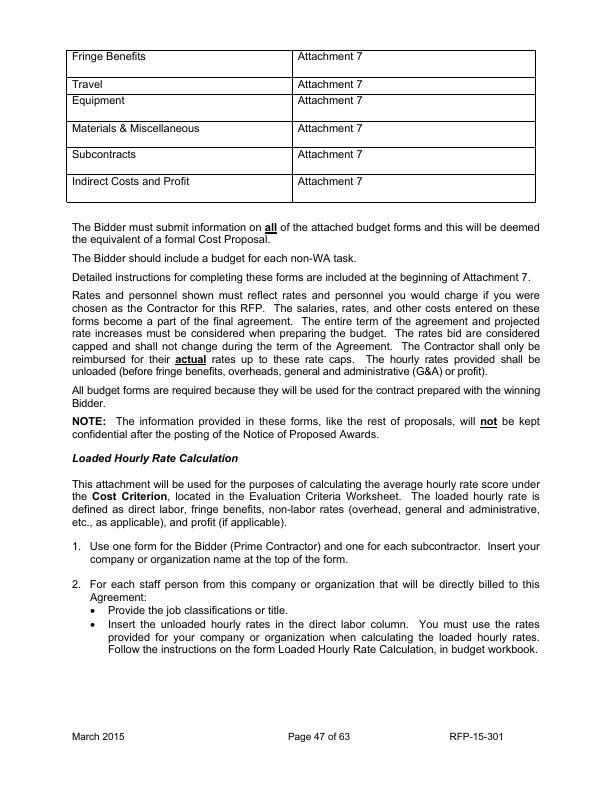table: (63, 44, 540, 207)
text: (64, 218, 545, 444), (69, 476, 545, 665), (66, 452, 242, 466)
